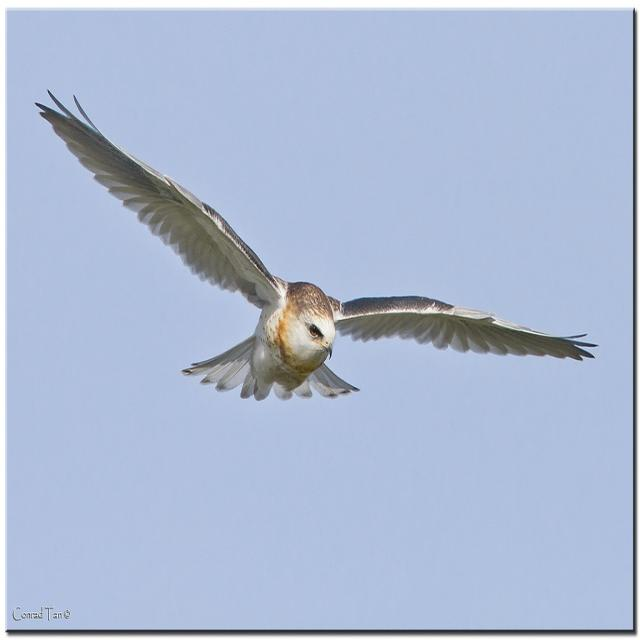bird: (28, 84, 602, 434)
